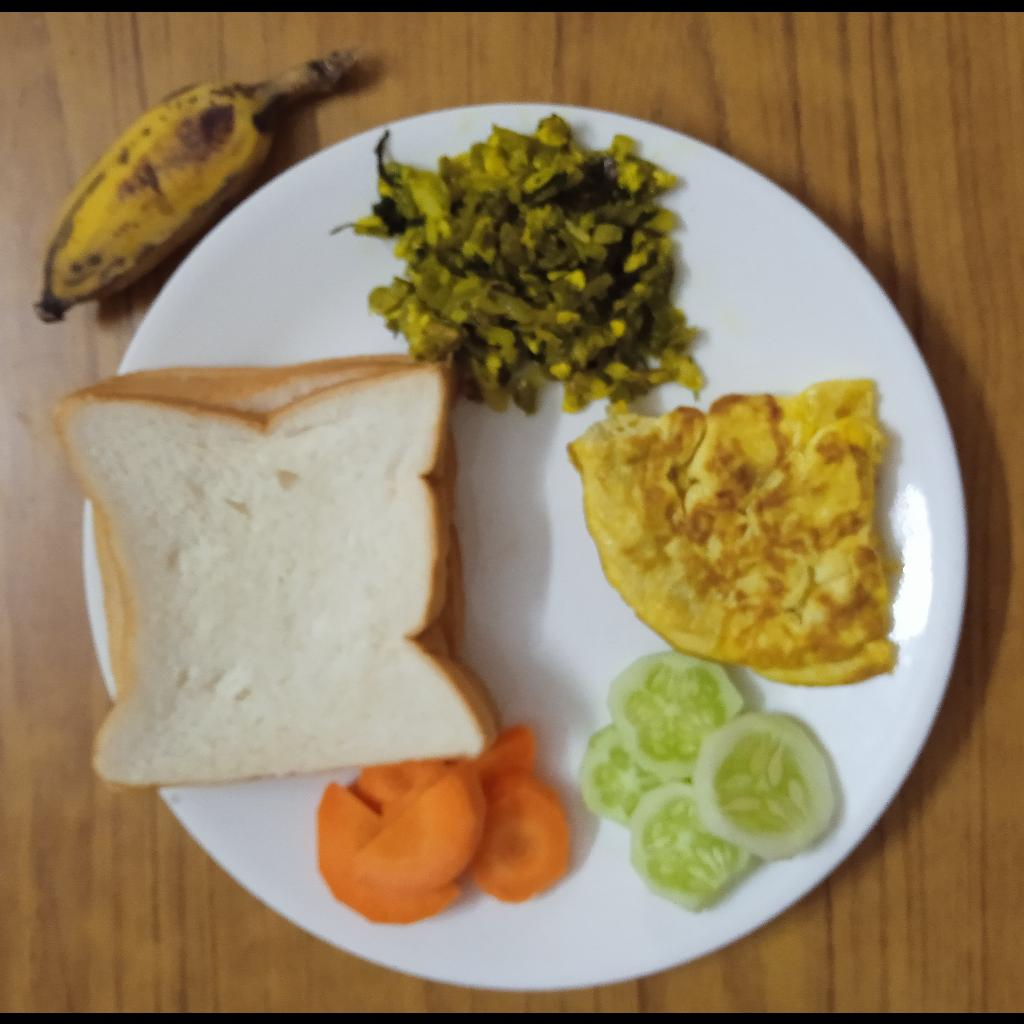banana: (33, 46, 362, 326)
bread: (54, 353, 505, 788)
carrot: (316, 725, 569, 922)
cucumber: (578, 651, 836, 912)
egg-poached: (567, 380, 906, 683)
okra: (350, 112, 704, 416)
